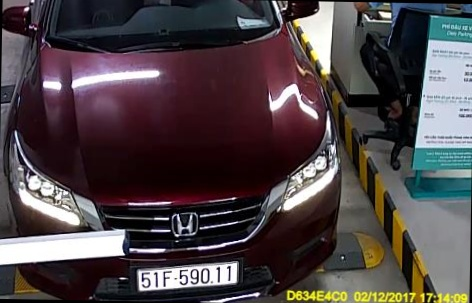plate: (129, 257, 252, 295)
